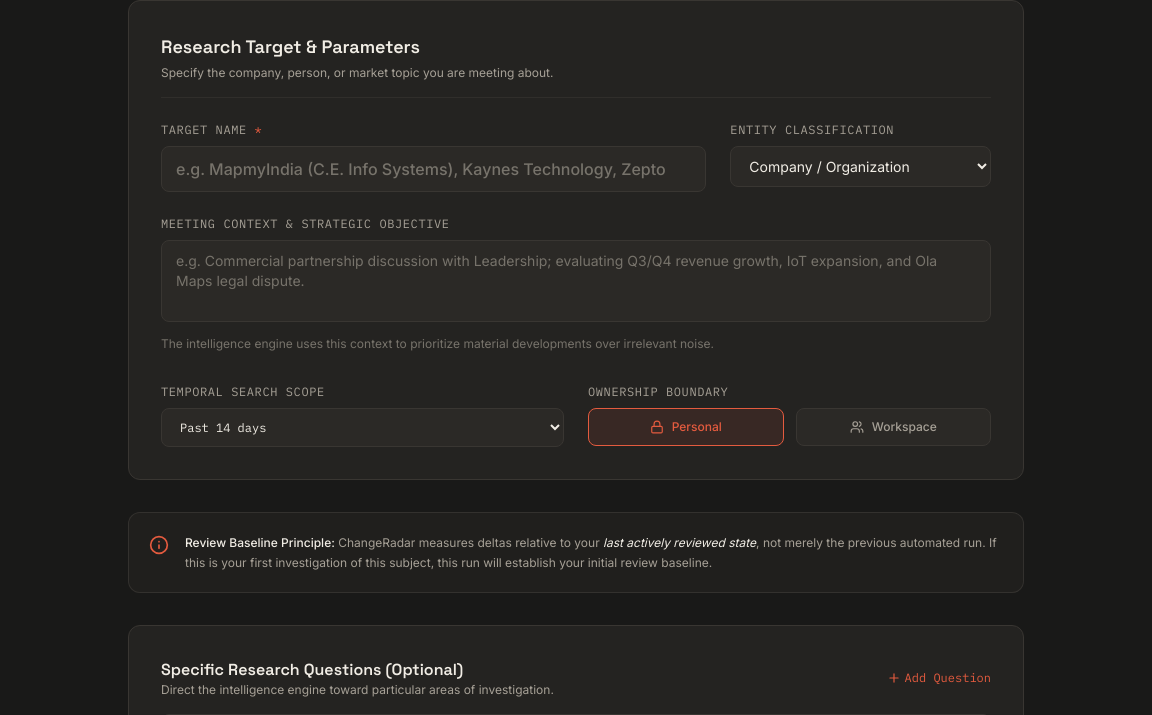
Scenario: ResearchForm Component › allows switching ownership boundary between Personal and Workspace
expect the button "Personal" is shown: met, box [588,408,784,446]
Click the button "Workspace". click: (893, 427)
box: [796,408,991,446]
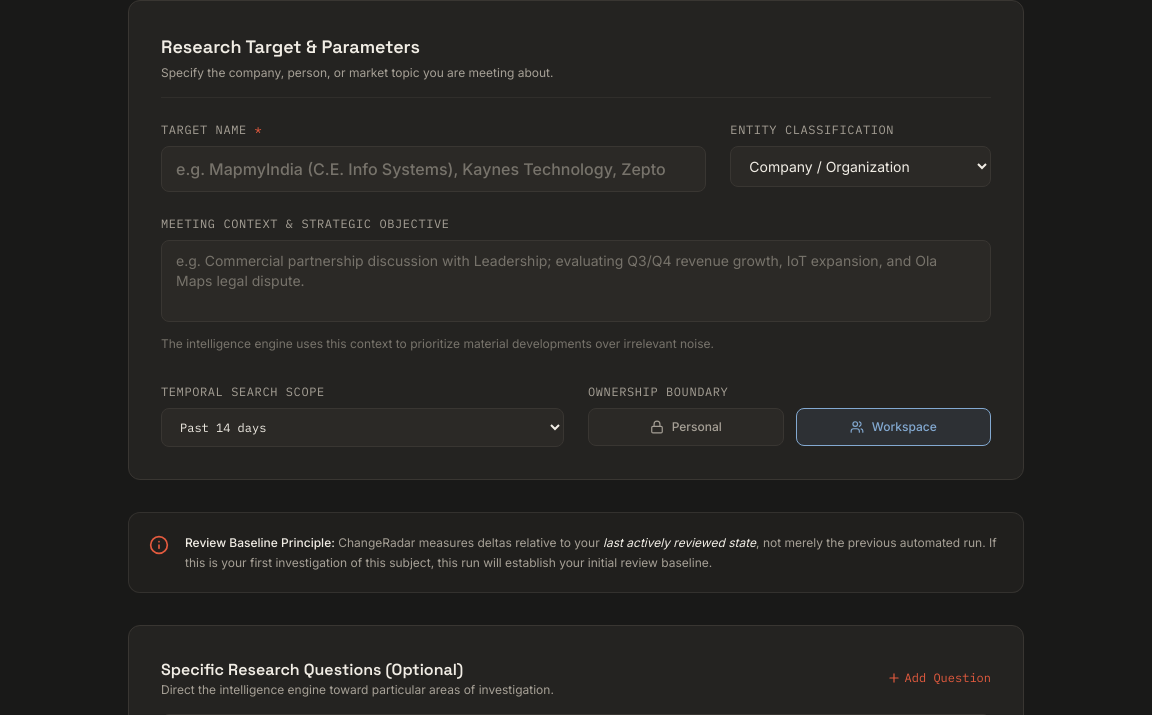
expect the button "Workspace" has class "text-status-info": met, box [796,408,991,446]
